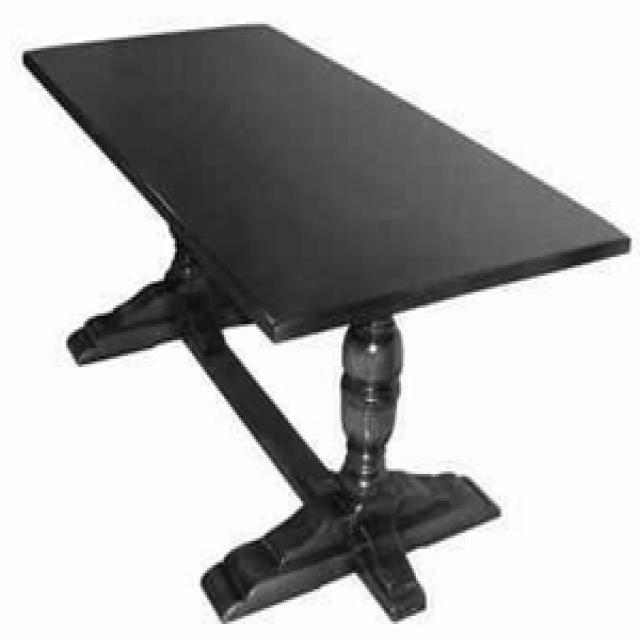table: (19, 19, 630, 622)
